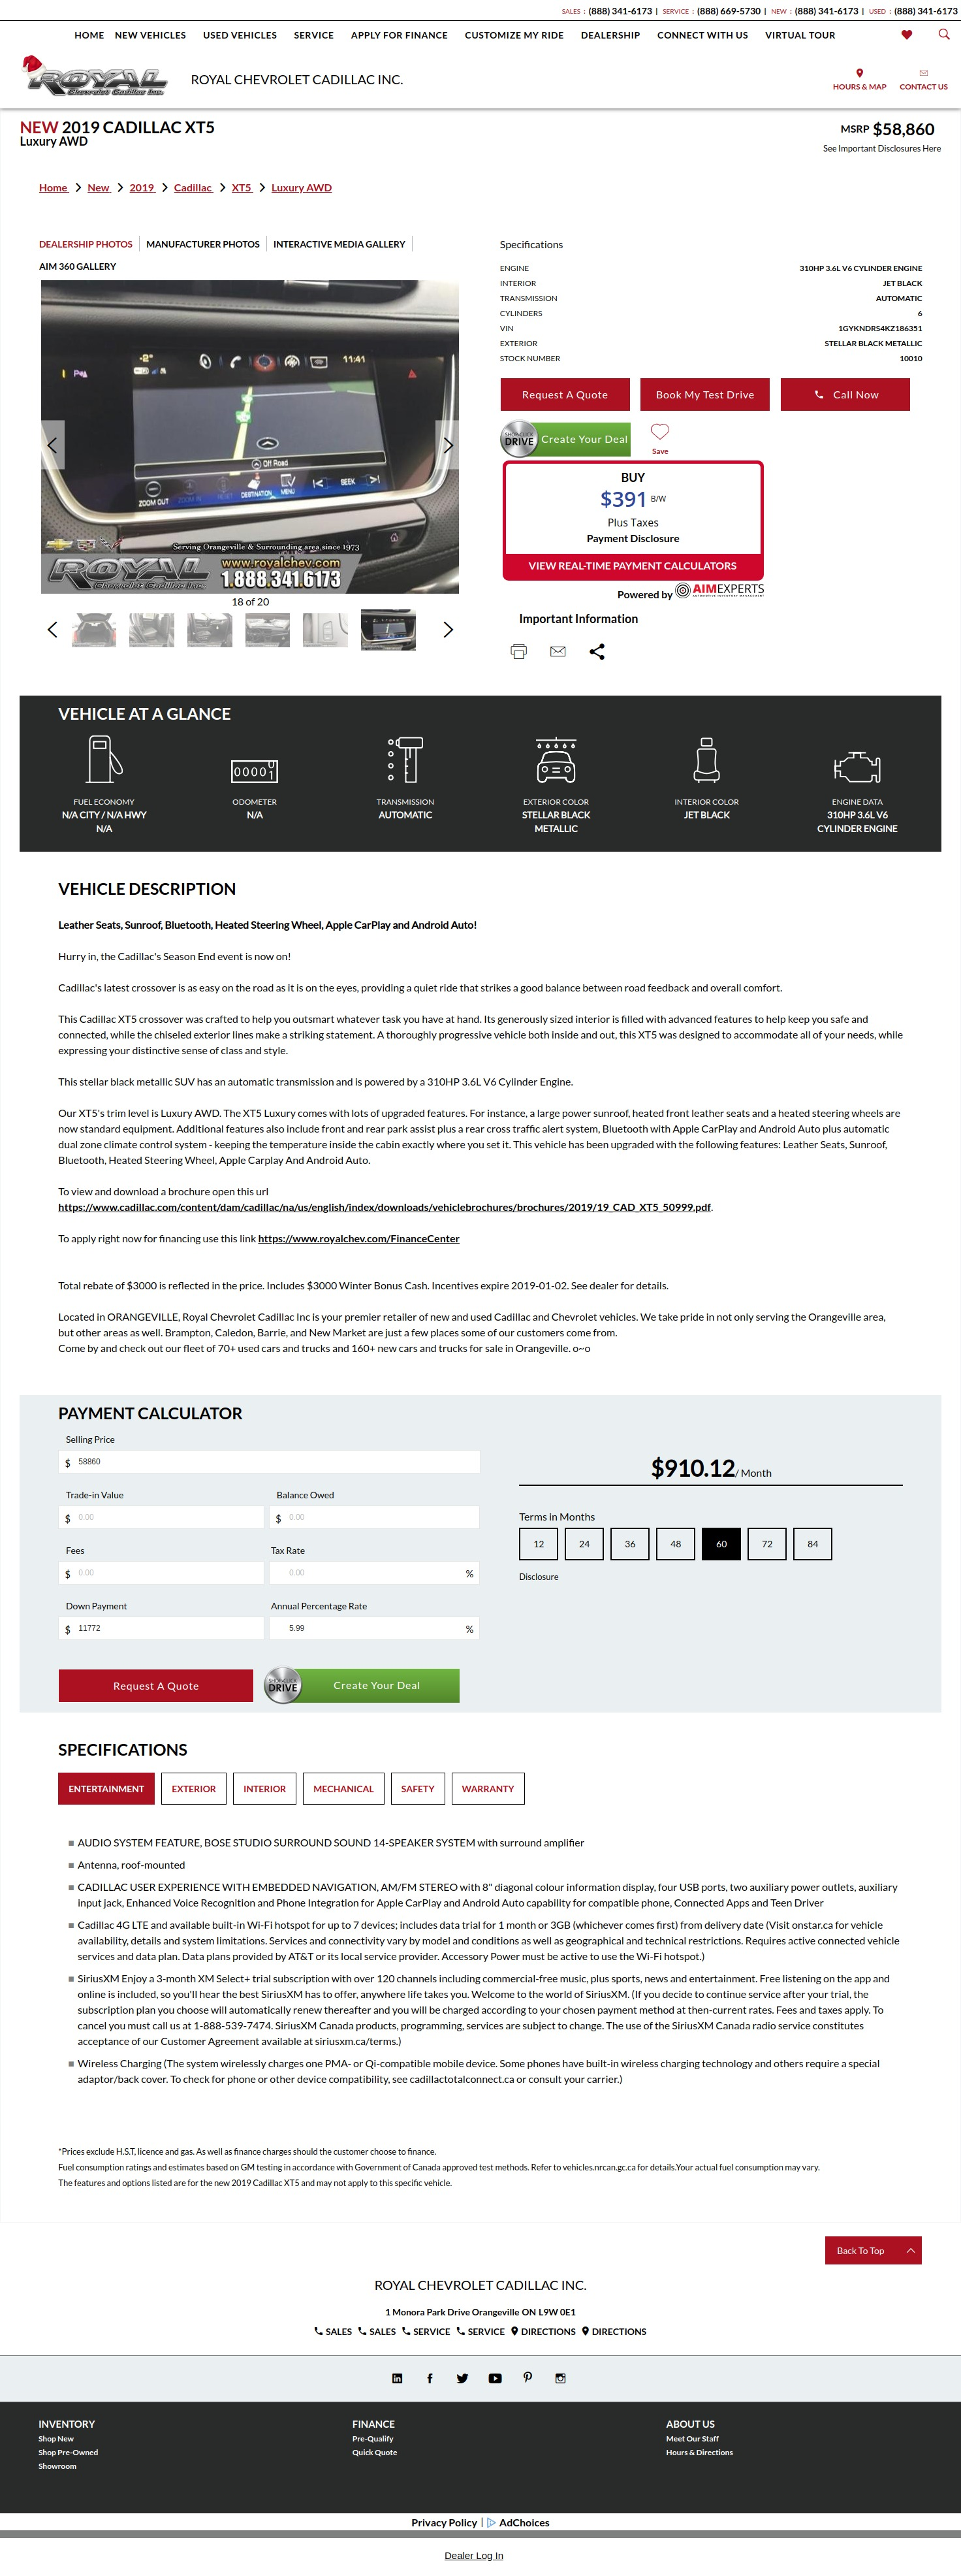car: (444, 621, 455, 639)
